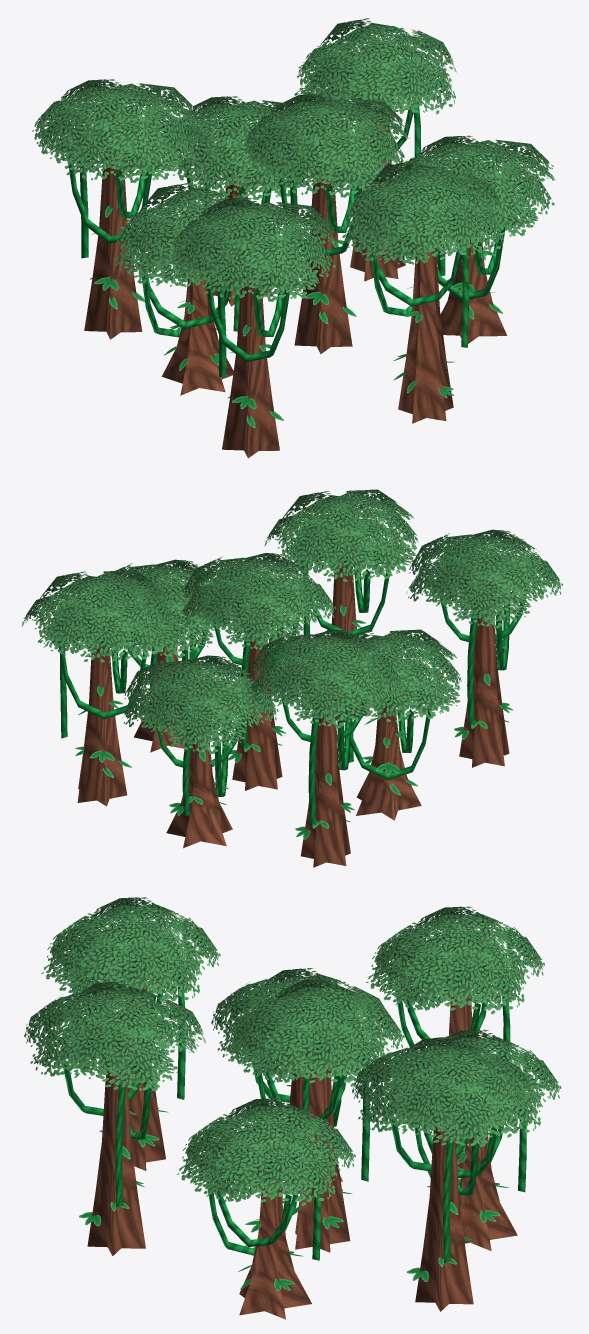
File: Jungle-trees-1.fbx
The picture shows the model from 3 angles, top to bottom: view 1: azimuth 30°, elevation 25°; view 2: azimuth 150°, elevation 25°; view 3: azimuth 270°, elevation 25°; orthographic projection. The views are drawn at different scales.
Parts seen in each view (by area): view 1: JungleTrees-1; view 2: JungleTrees-1; view 3: JungleTrees-1.
Part boxes in pixels (box(x1,y1,x2,y2)): JungleTrees-1: box(32, 18, 555, 458); JungleTrees-1: box(21, 489, 562, 867); JungleTrees-1: box(24, 897, 561, 1319).
Bounding box in the file's own units: 619 × 596 × 302.
